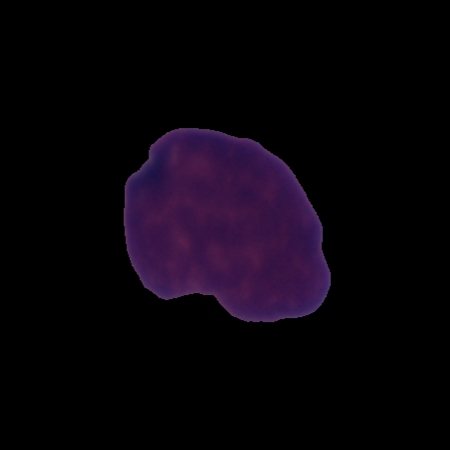ALL: (119, 124, 336, 326)
